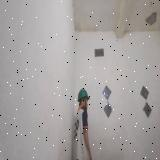Helmet: (78, 88, 91, 102)
